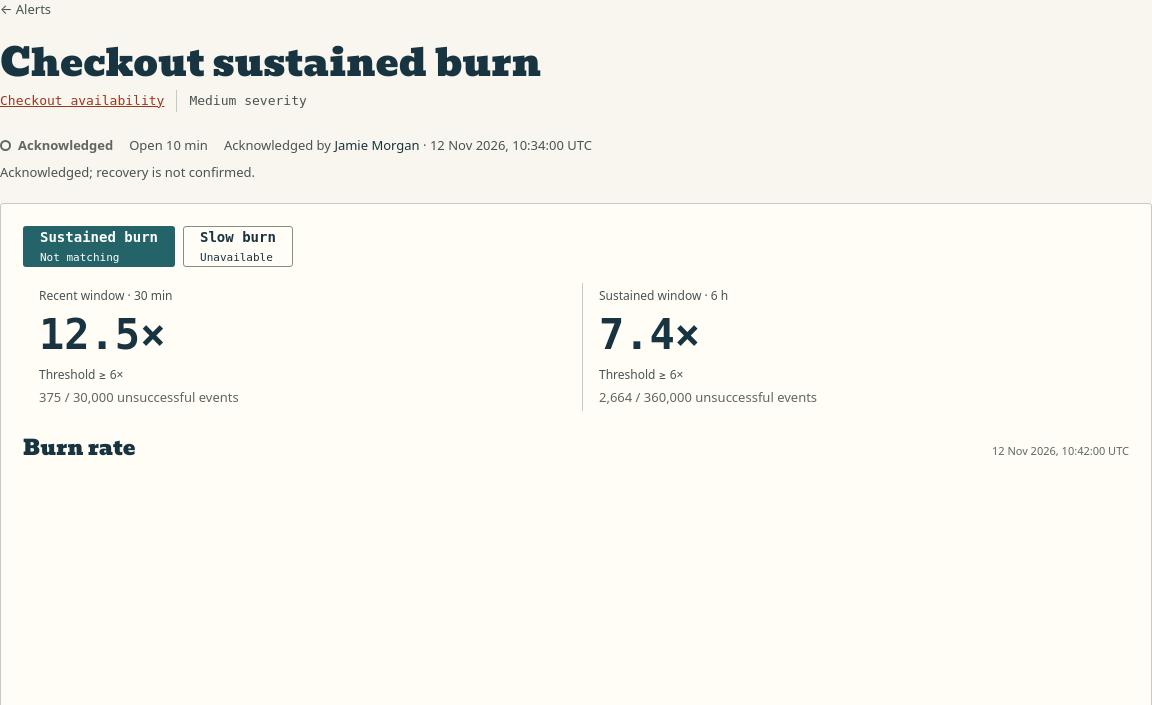
selected alert detail › renders supplied non-matching and unavailable outcomes without deriving them from displayed burn
This screenshot has width=1152, height=705.
Check: the text "Acknowledged" is shown, box x1=0 y1=136 x2=113 y2=154
Check: the text "Not matching" is shown, box x1=40 y1=250 x2=120 y2=266
What coordinates should you click on to do the following:
click the button "Slow burn Unavailable"
I would click on:
 (238, 246)
Its box is x1=183 y1=226 x2=293 y2=267.
(page scrolled)
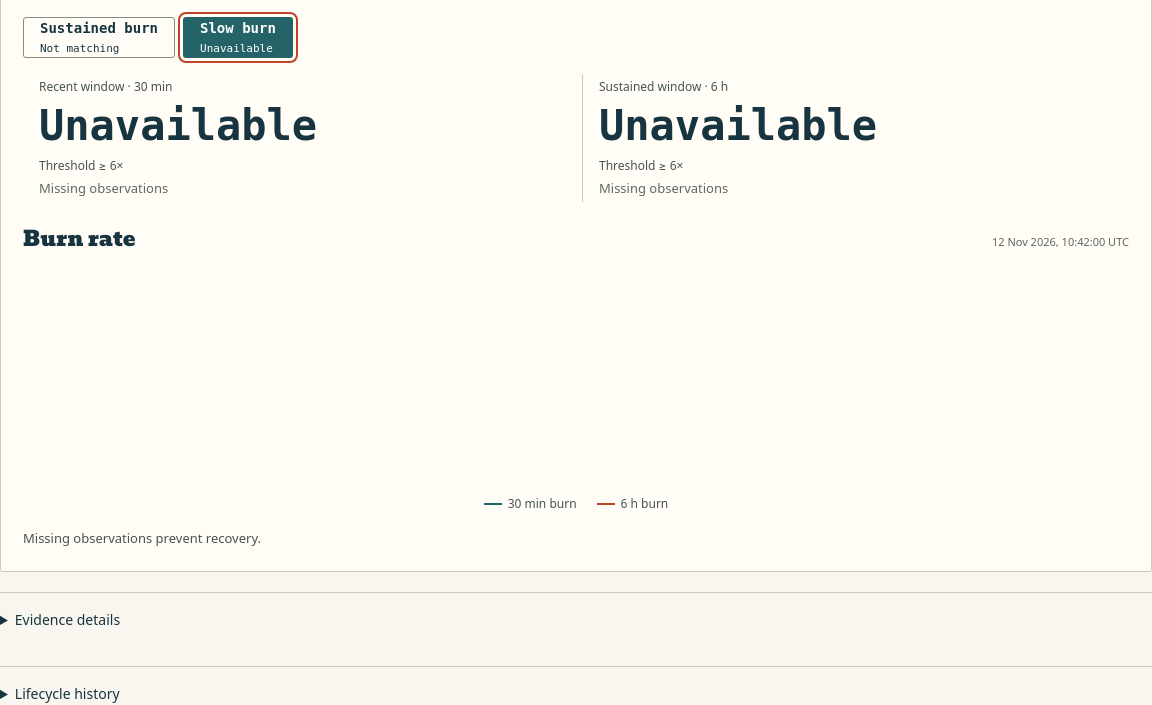
Check: the text "Missing observations prevent recovery." is shown, box x1=23 y1=529 x2=261 y2=547
Check: the button "Acknowledge " is gone
